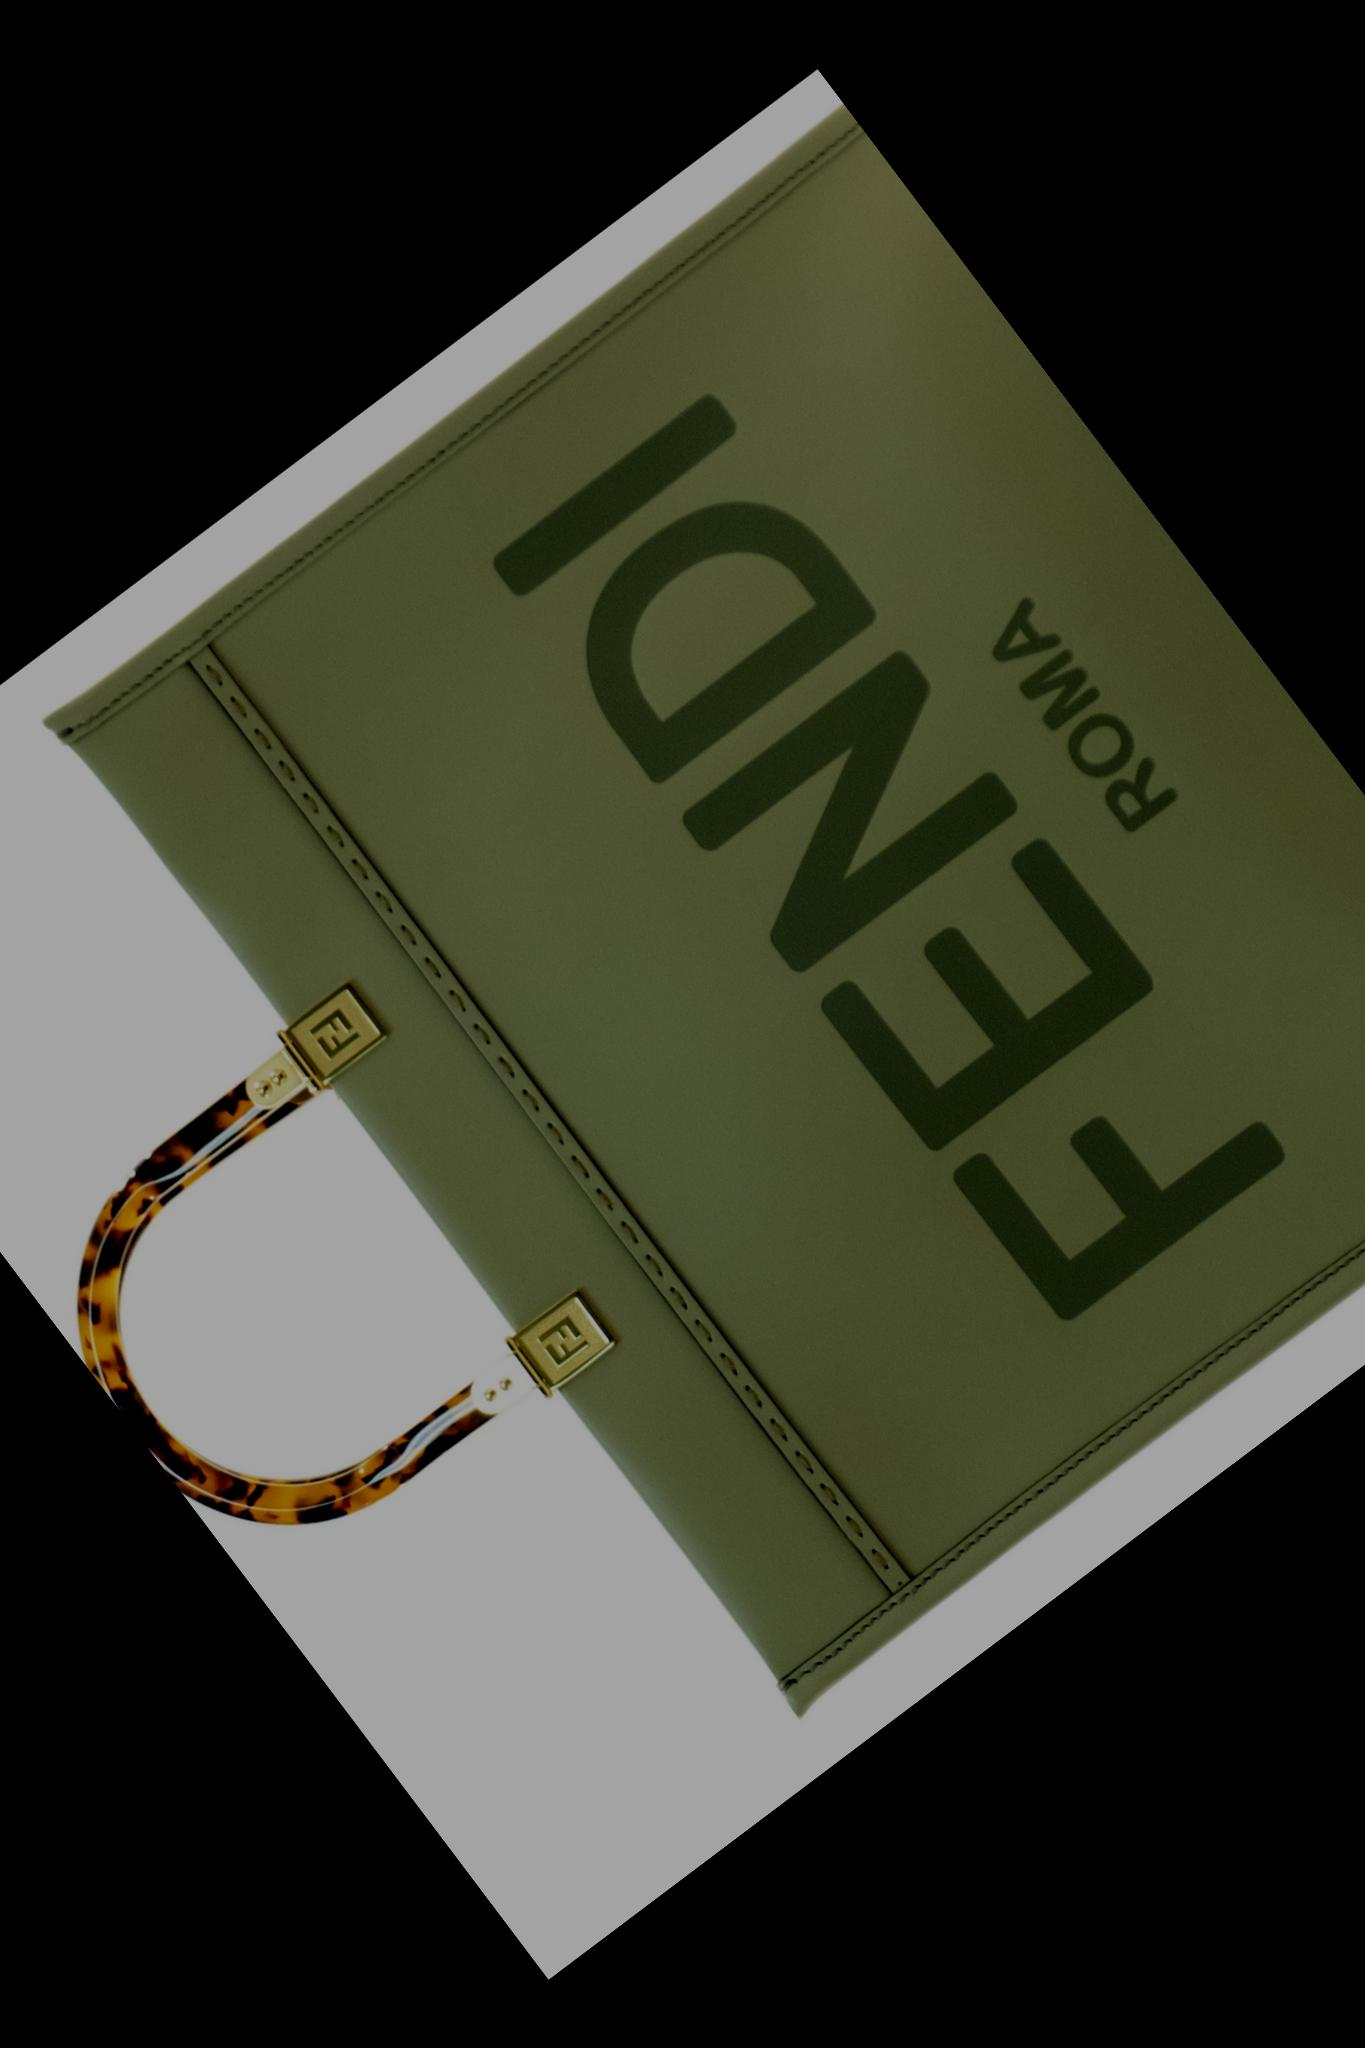FENDI: (483, 388, 1287, 1326)
